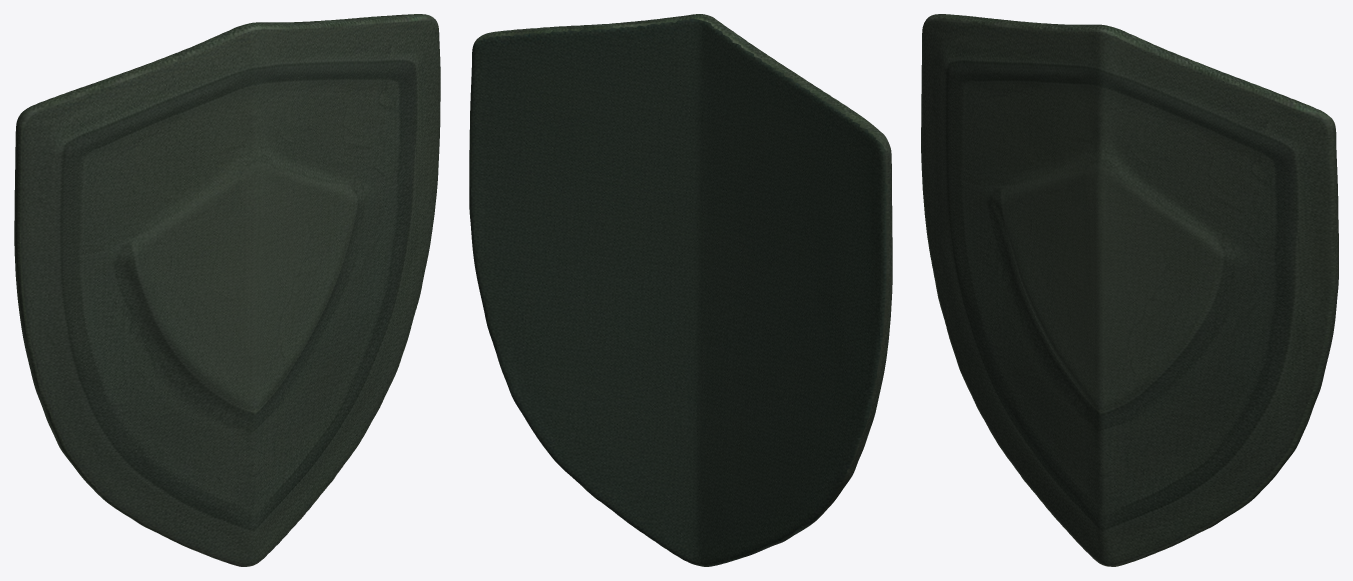
Rendered from item_shield_knight.glb.
3 views of the same model, side by side, from view 1: azimuth 30°, elevation 25°; view 2: azimuth 150°, elevation 25°; view 3: azimuth 330°, elevation 25° (orthographic).
Parts seen in each view (by area): view 1: tmpkrpu2ta6.ply; view 2: tmpkrpu2ta6.ply; view 3: tmpkrpu2ta6.ply.
Part boxes in pixels (x1,y1,x2,y2): tmpkrpu2ta6.ply: [14, 14, 440, 566]; tmpkrpu2ta6.ply: [469, 14, 892, 566]; tmpkrpu2ta6.ply: [921, 14, 1338, 566].
Bounding box in the file's own units: 1.6 × 1.96 × 0.2404.
Materials: 1 (1 with a texture image).
